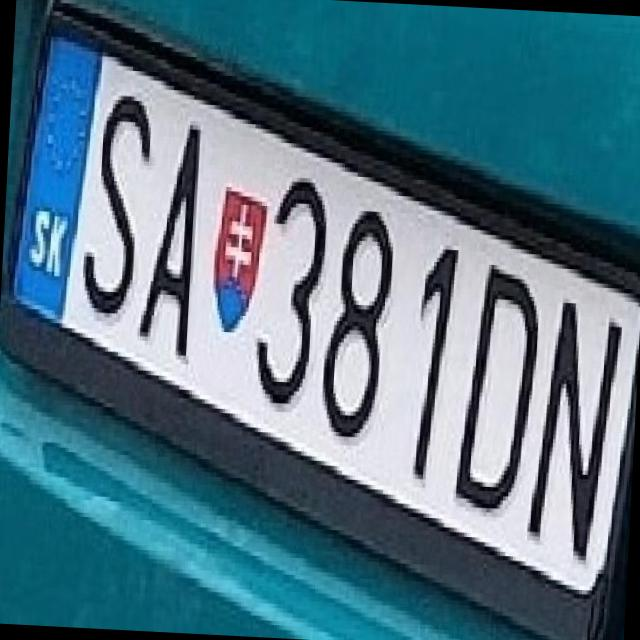1: (386, 222, 469, 476)
3: (240, 158, 338, 418)
8: (308, 184, 404, 444)
A: (128, 101, 214, 356)
D: (437, 246, 548, 520)
N: (512, 276, 634, 562)
S: (67, 72, 166, 324)
